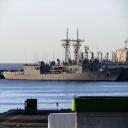Fragata: (3, 26, 126, 82)
